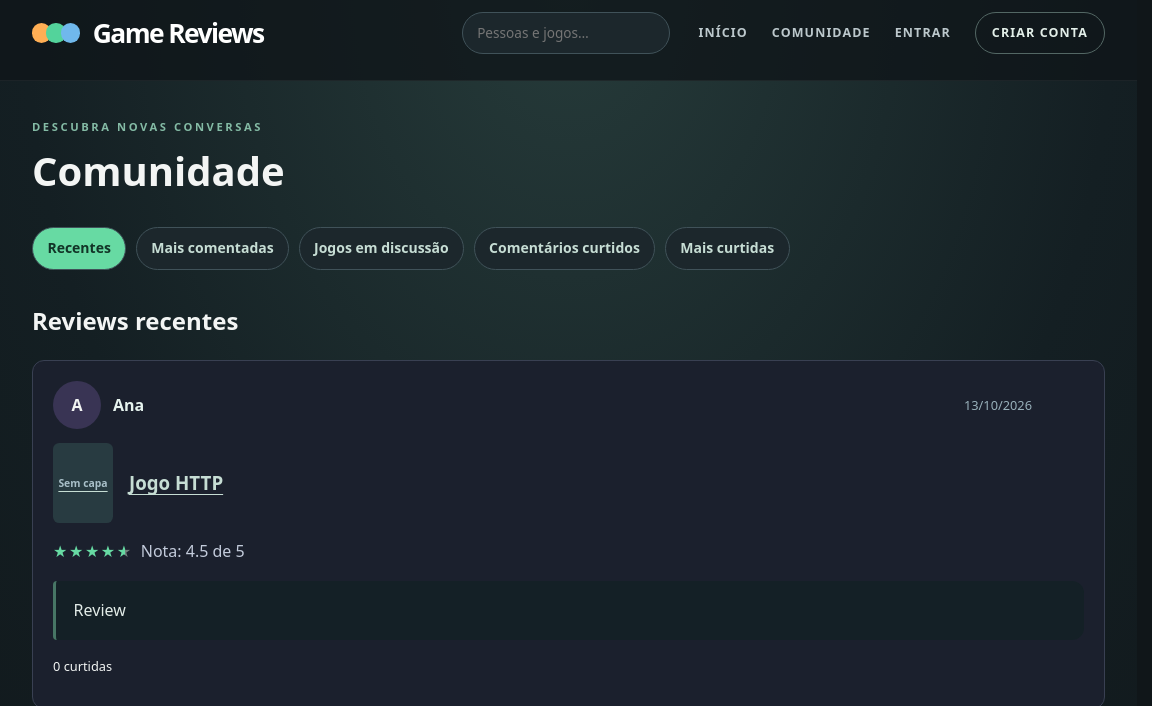
Test: 1 comentários não exibem Ver mais desnecessário
Expected: the text "Review" is shown, 53,581 -> 1084,640
Click the button "Mais comentadas". click: click(212, 248)
box: 136,226 -> 289,270
(page scrolled)
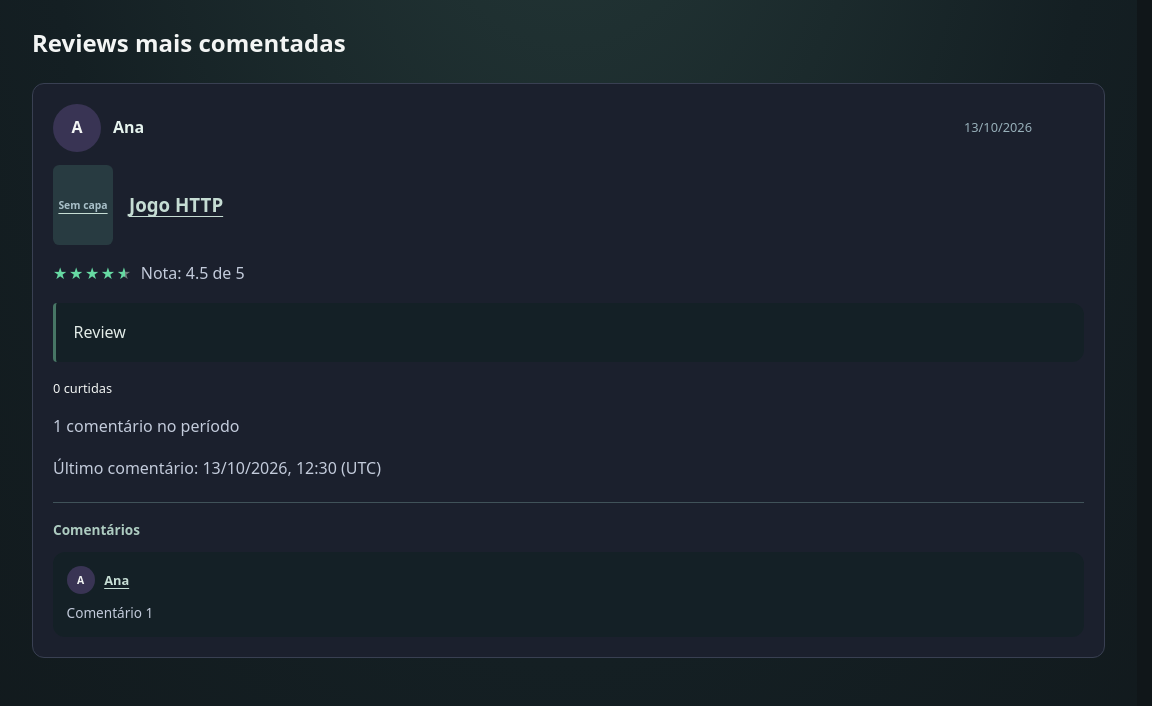
Now the text "Comentário 1" is shown, box 67,603 -> 153,622
Now the number of list items is 1, box 53,552 -> 1084,637
